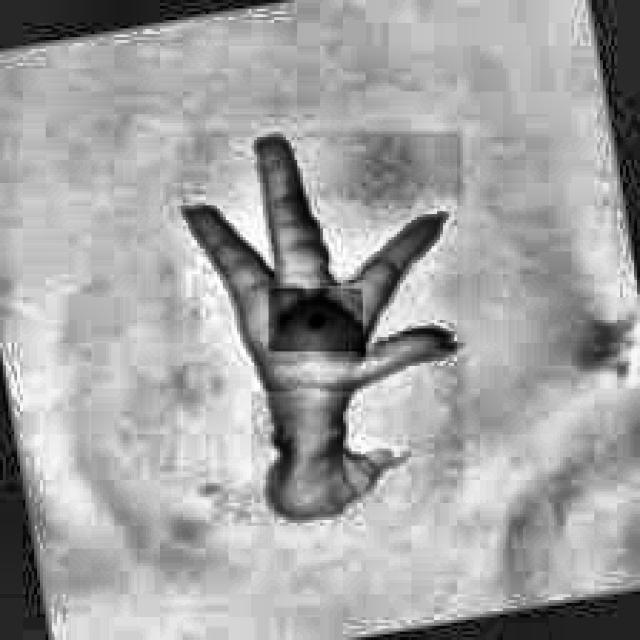Bumble foot: (276, 289, 364, 356)
